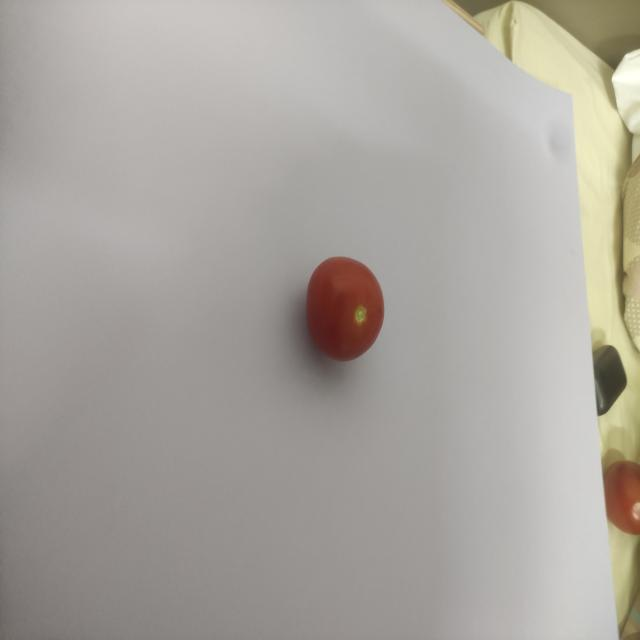kirmizi: (292, 242, 392, 372)
